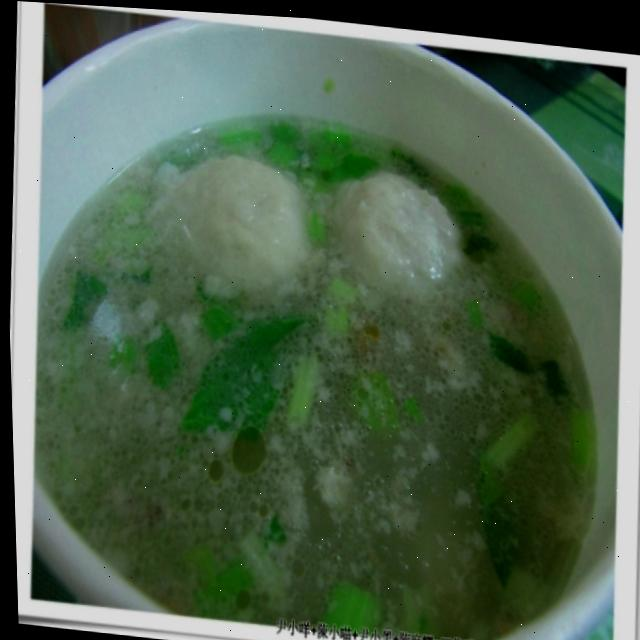熟制海鲜: (15, 24, 626, 640)
